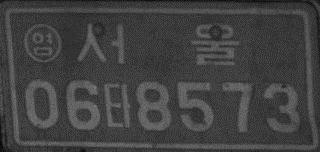0: (24, 77, 60, 129)
3: (264, 80, 301, 133)
5: (176, 80, 214, 132)
6: (64, 78, 100, 130)
7: (220, 79, 254, 133)
8: (135, 79, 172, 131)
서울_D: (75, 21, 239, 66)
영: (22, 22, 62, 63)
타: (103, 82, 132, 129)
